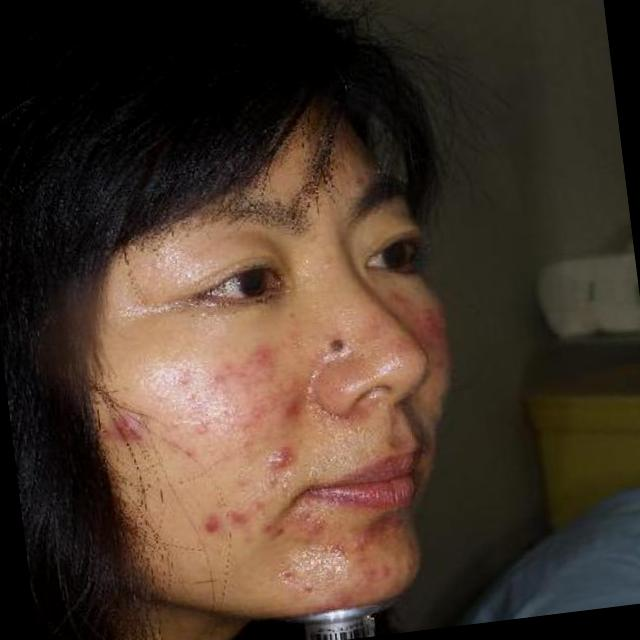nodules: (102, 408, 152, 449), (262, 439, 298, 476), (194, 510, 228, 544), (225, 498, 248, 528)
